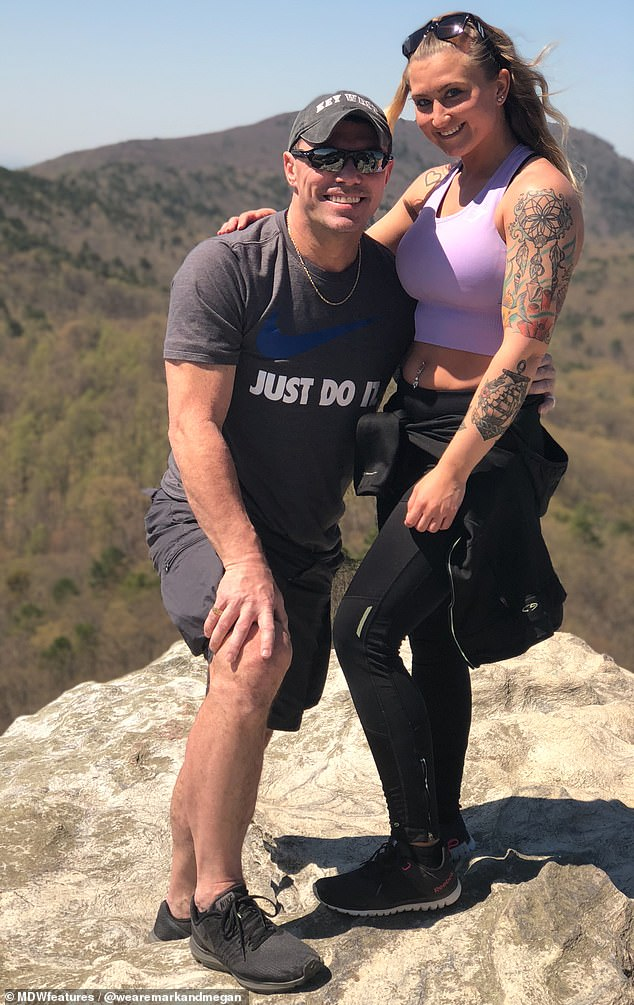Person: (129, 80, 437, 996), (308, 9, 596, 940)
